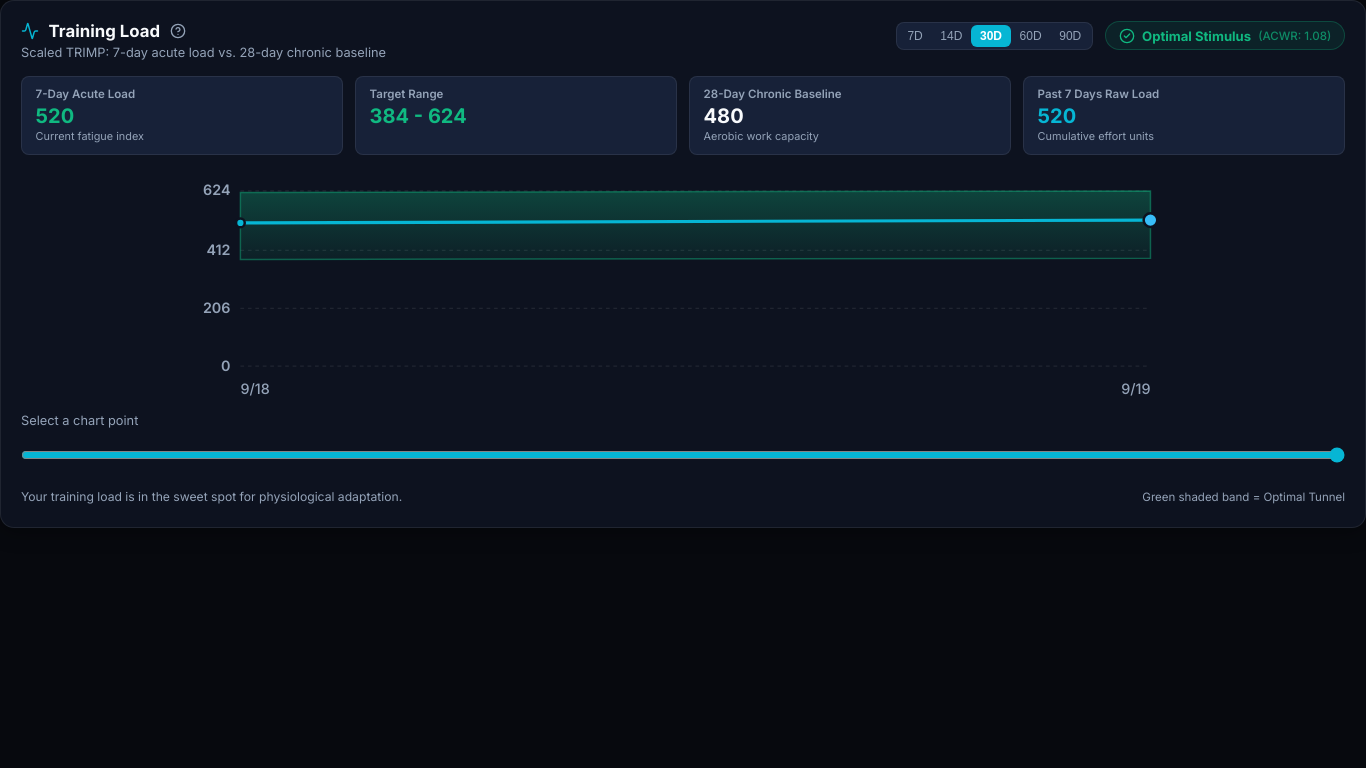
it: TrainingLoadCard UI Tests › uses the shared slider to select a training-load point and show its details
The image size is (1366, 768).
Check: the element with class "training-load-chart-scroll" is shown, box [21,171,1345,401]
Set the slider labelled "Select a chart point" to "0" at [29, 455], box [21,433,1345,477]
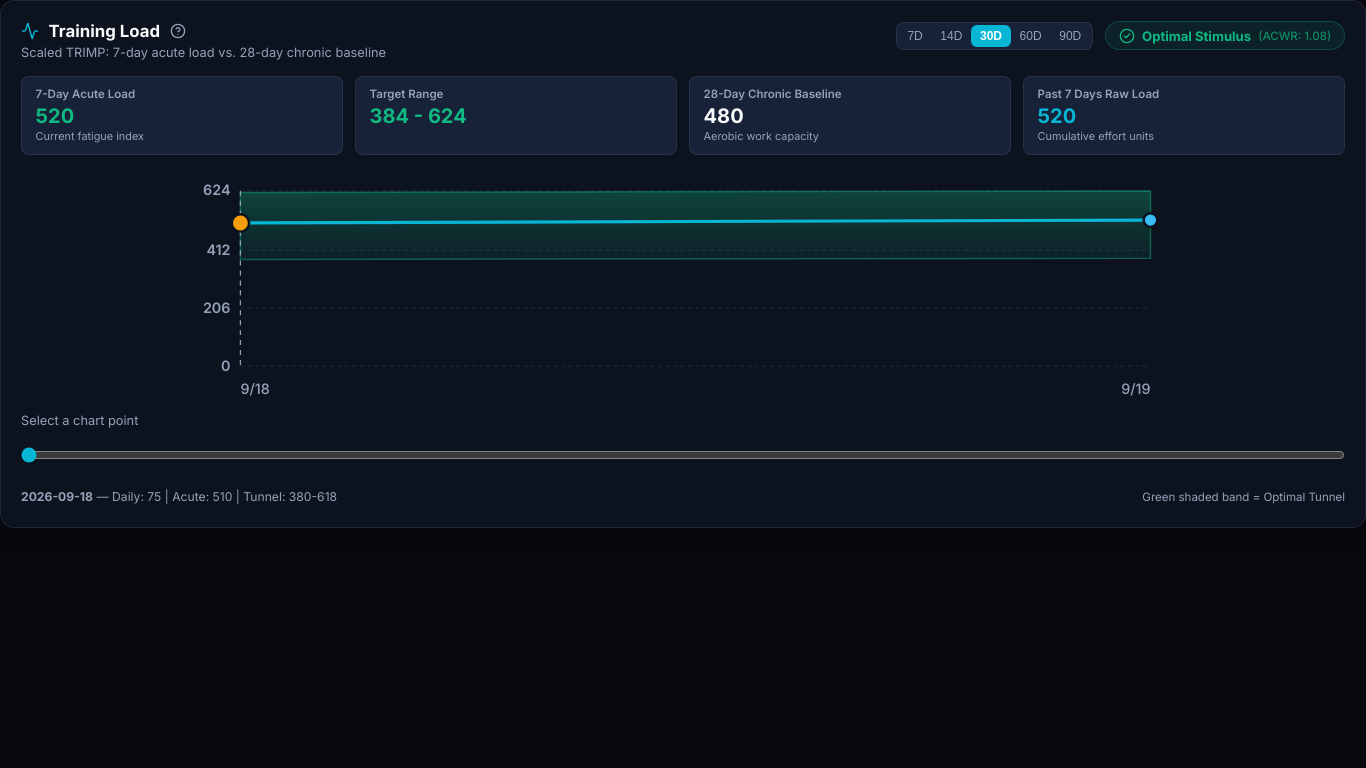
Check: the text "2026-09-18" is shown, box [21,489,93,504]
Check: the text "75" is shown, box [147,489,161,504]
